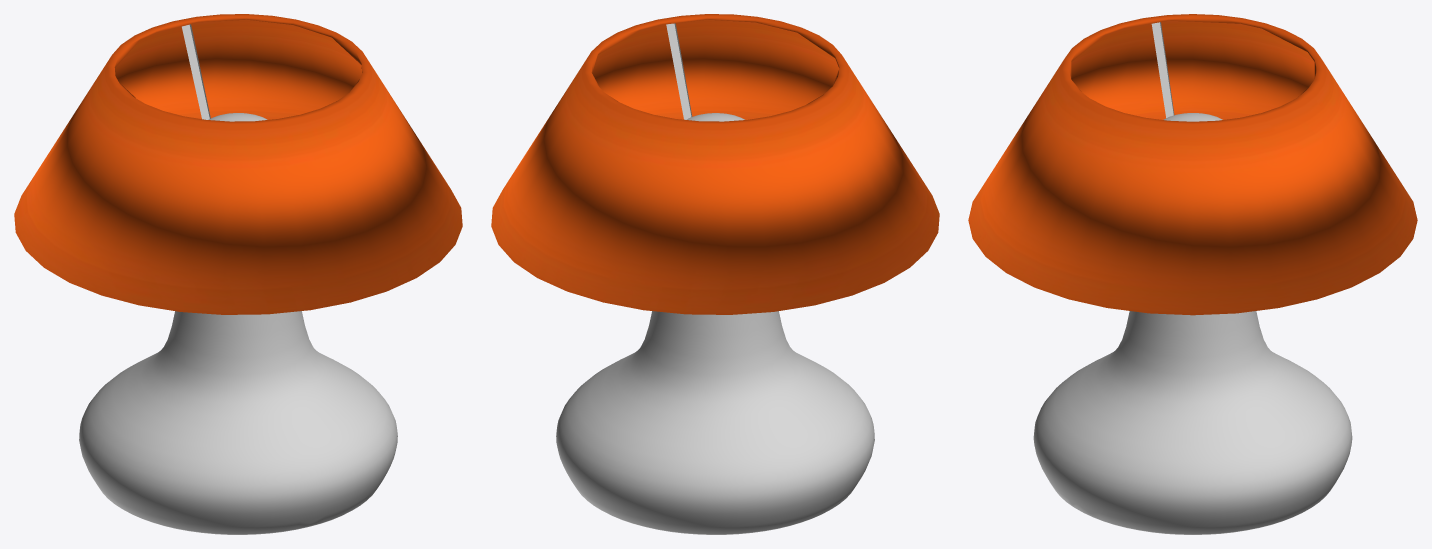
The model's file is sh-scopia-livingroom-lamp1.glb.
3 renders of one model, left to right at view 1: azimuth 30°, elevation 25°; view 2: azimuth 150°, elevation 25°; view 3: azimuth 270°, elevation 25°, orthographic.
Parts seen in each view (by area): view 1: lampshade_off_mul_lampshade_off_mul_lampshade_off_mul_multil, ceramicbase_ceramicbase_ceramicbase.001, whitesop_whitesop.001_whitesop.002; view 2: lampshade_off_mul_lampshade_off_mul_lampshade_off_mul_multil, ceramicbase_ceramicbase_ceramicbase.001, whitesop_whitesop.001_whitesop.002; view 3: lampshade_off_mul_lampshade_off_mul_lampshade_off_mul_multil, ceramicbase_ceramicbase_ceramicbase.001, whitesop_whitesop.001_whitesop.002.
Boxes of the visible parts, x1,y1,x2,y2 form: lampshade_off_mul_lampshade_off_mul_lampshade_off_mul_multil: [14, 14, 462, 314]; ceramicbase_ceramicbase_ceramicbase.001: [79, 311, 397, 534]; whitesop_whitesop.001_whitesop.002: [182, 24, 210, 119]; lampshade_off_mul_lampshade_off_mul_lampshade_off_mul_multil: [491, 14, 939, 314]; ceramicbase_ceramicbase_ceramicbase.001: [556, 311, 874, 534]; whitesop_whitesop.001_whitesop.002: [666, 23, 692, 119]; lampshade_off_mul_lampshade_off_mul_lampshade_off_mul_multil: [968, 14, 1417, 315]; ceramicbase_ceramicbase_ceramicbase.001: [1033, 311, 1352, 534]; whitesop_whitesop.001_whitesop.002: [1151, 22, 1174, 117].
Bounding box in the file's own units: 1 × 1 × 1.
6 materials, 1 textured.
